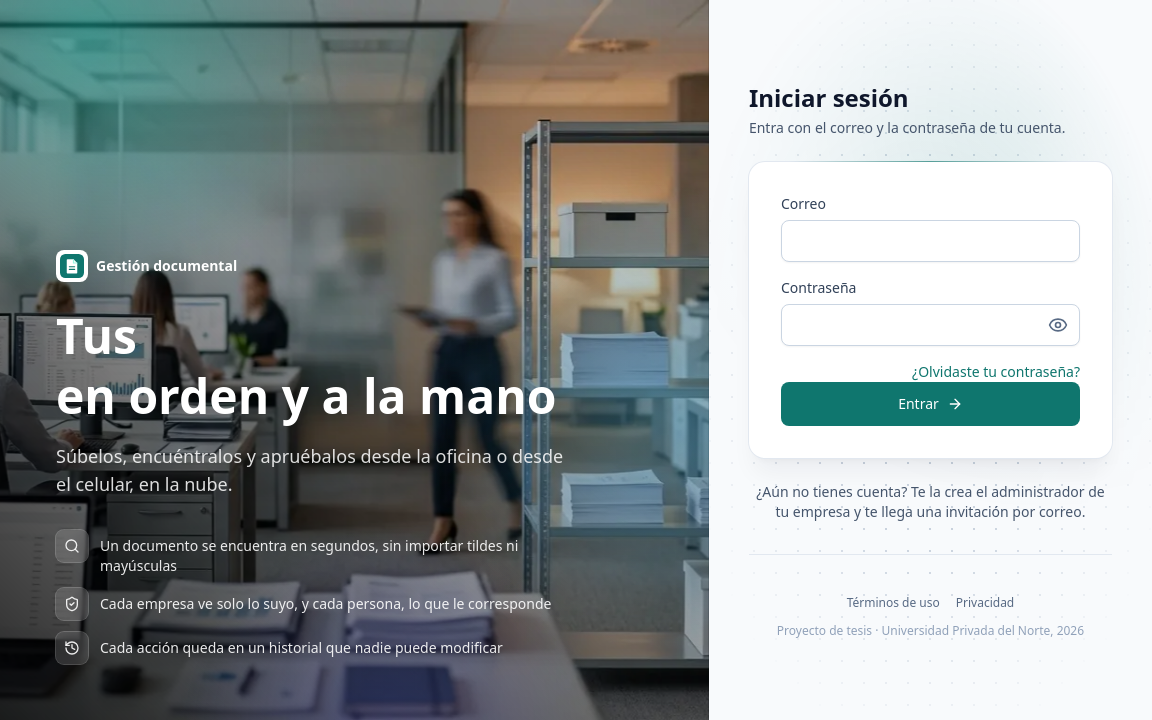
El acceso, con movimiento y sin confundir a un lector de pantalla (D40) › la contraseña se puede mostrar y volver a ocultar con el ojo, sin cambiar el nombre del botón
Type "una-clave-larga" into the password field labelled "Contraseña" at coordinates (930, 324), box [781,304,1080,346]
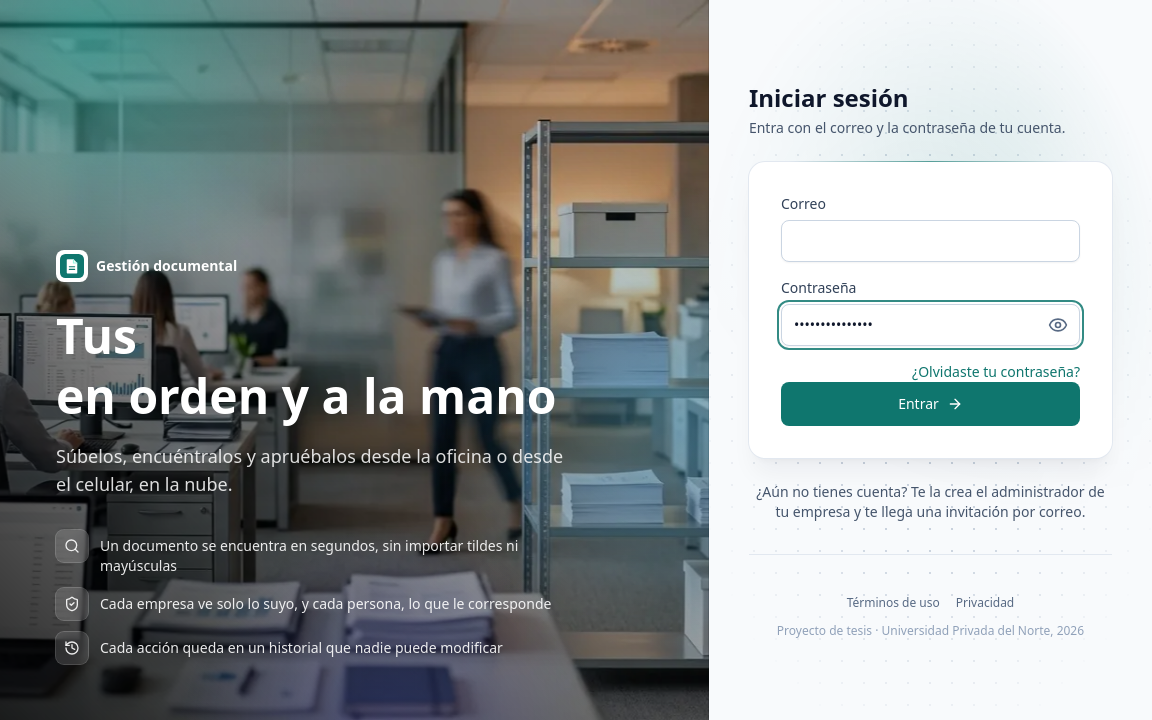
Click the button named "Mostrar la contraseña" at coordinates (1058, 324), box [1036,304,1080,346]
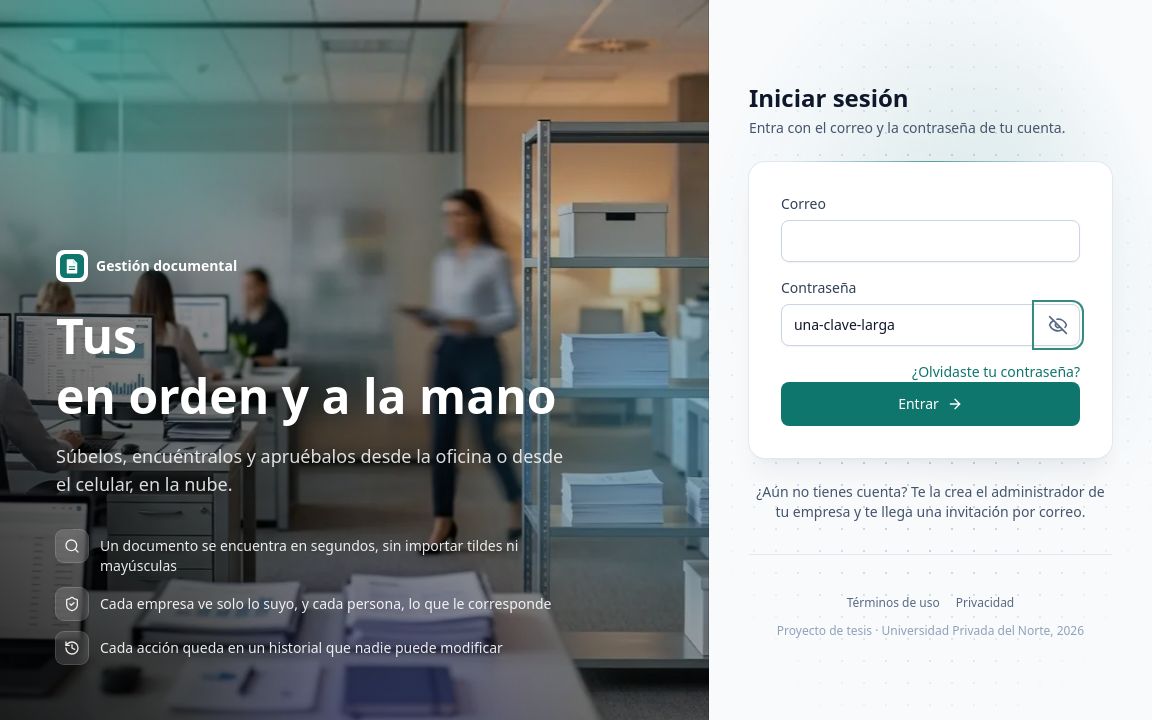
Expected: the field labelled "Contraseña" shows its text, [781,304,1080,346]
Click the button named "Mostrar la contraseña" at coordinates (1058, 324), box [1036,304,1080,346]
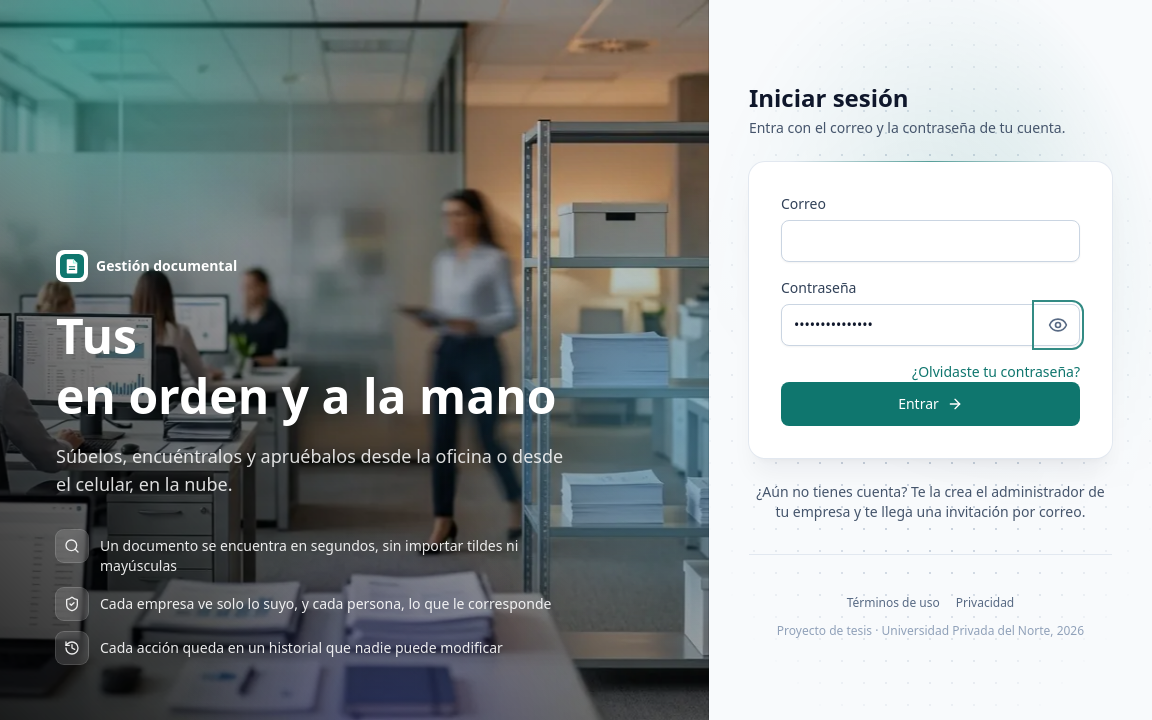
Expected: the number of buttons named "Mostrar la contraseña" is 1, [1036,304,1080,346]
Expected: the password field labelled "Contraseña" hides its text, [781,304,1080,346]
